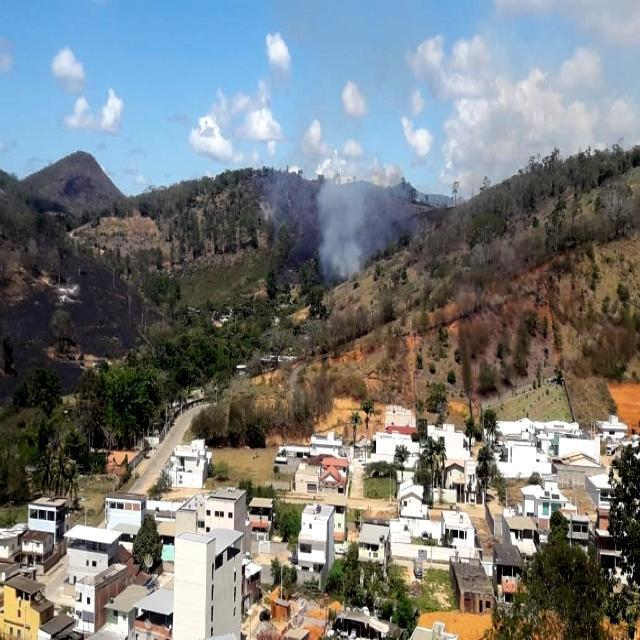Smoke: (305, 150, 423, 278)
